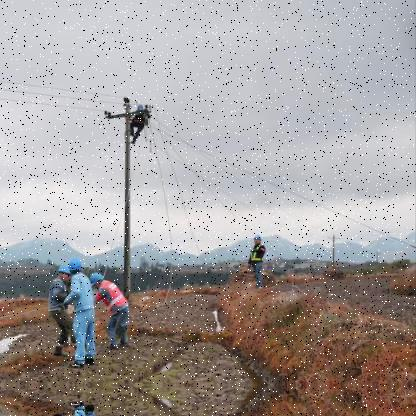Helmet: (88, 271, 106, 291), (69, 258, 84, 275), (58, 265, 72, 281), (256, 234, 264, 244)
